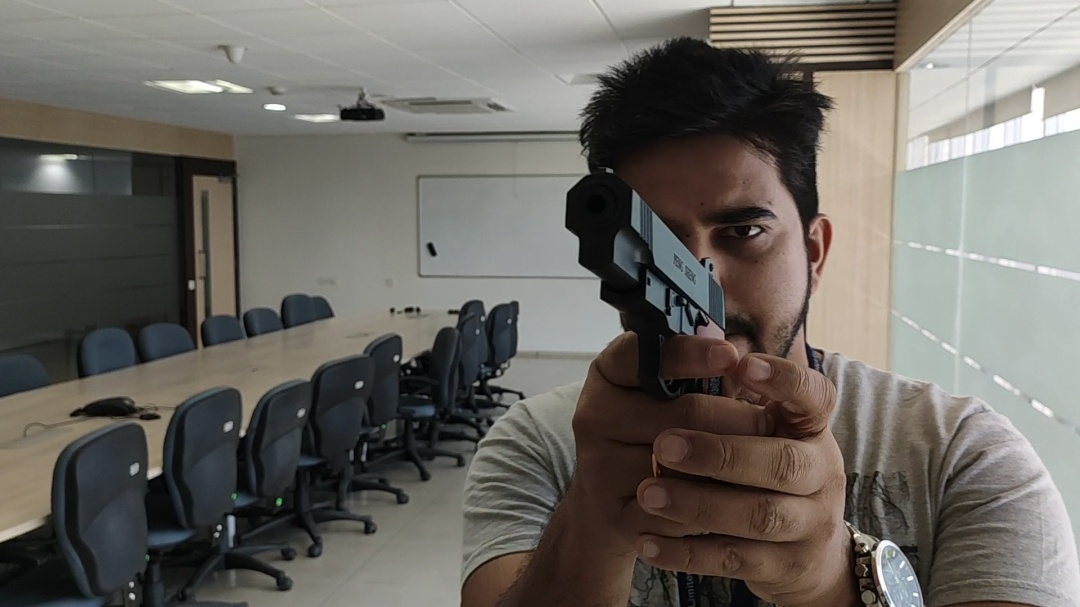gun: (564, 171, 733, 355)
